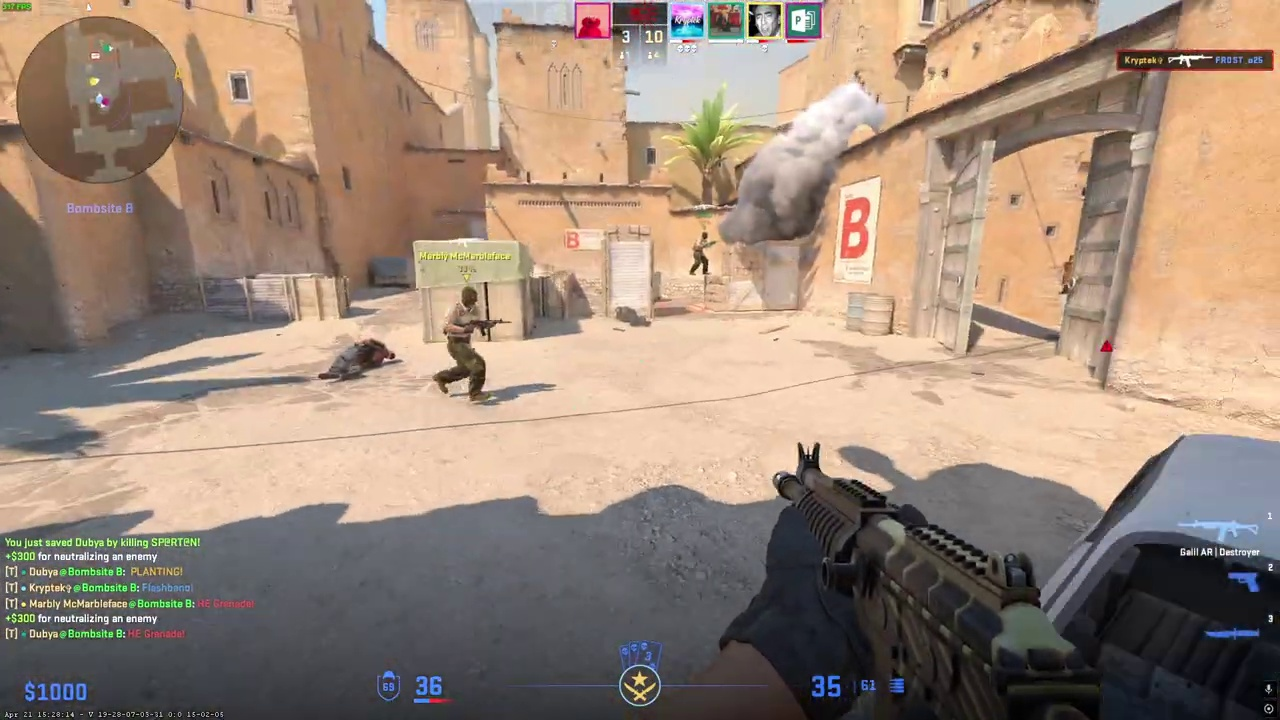Terrorist: (437, 286, 493, 401), (690, 231, 712, 275)
